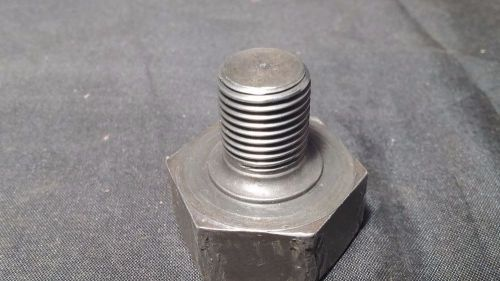bolt_b: (163, 106, 368, 278)
